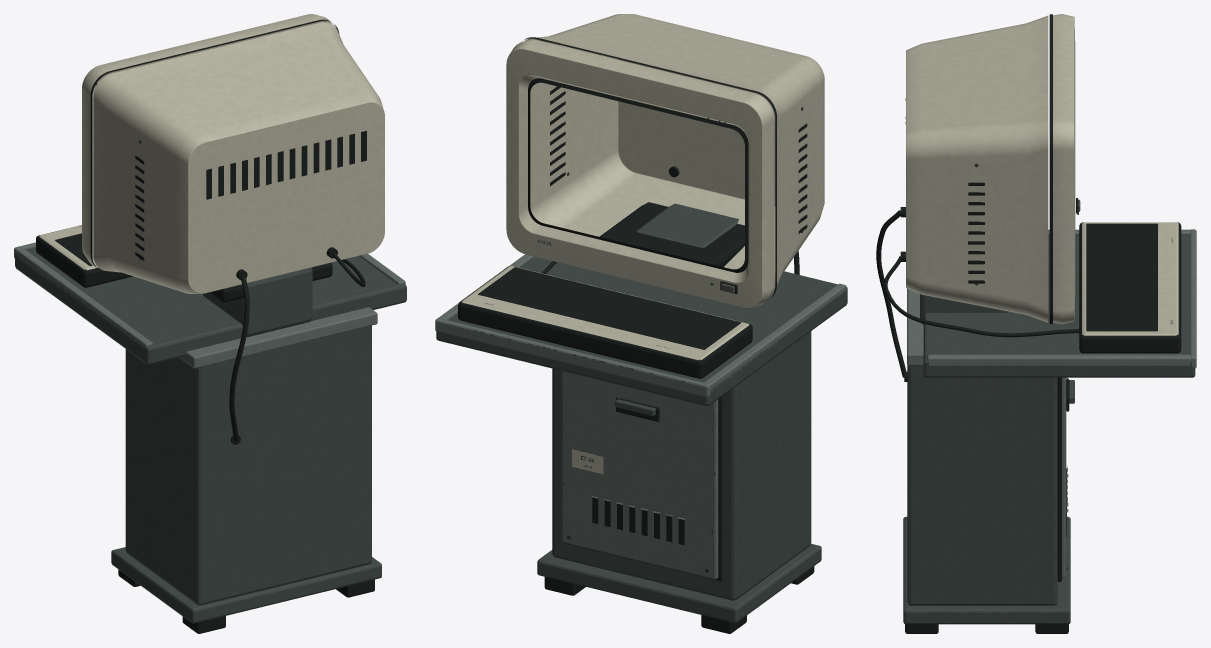
The model's file is TERMINAL_Body.fbx.
3 views of the same model, side by side, from view 1: azimuth 30°, elevation 25°; view 2: azimuth 150°, elevation 25°; view 3: azimuth 270°, elevation 25° (orthographic). The views are drawn at different scales.
Parts seen in each view (by area): view 1: TERMINAL_Body; view 2: TERMINAL_Body; view 3: TERMINAL_Body.
Boxes of the visible parts, x1,y1,x2,y2 form: TERMINAL_Body: [14, 14, 406, 633]; TERMINAL_Body: [435, 14, 847, 633]; TERMINAL_Body: [876, 14, 1196, 633].
Size of the model in its own units: 0.82 by 1.55 by 0.8608.
